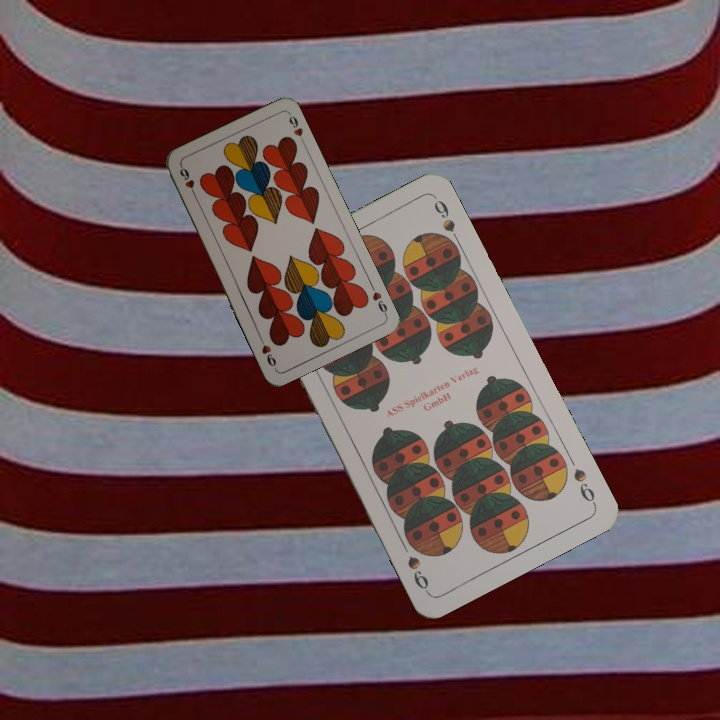H9: (176, 162, 200, 200), (368, 287, 390, 318)
S9: (569, 464, 599, 508)
